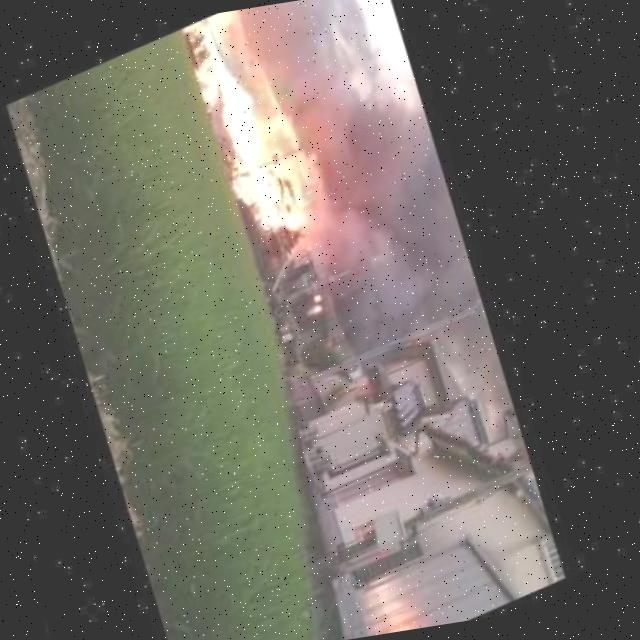fire: (174, 0, 350, 259)
